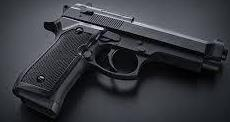gun: (1, 1, 230, 122)
